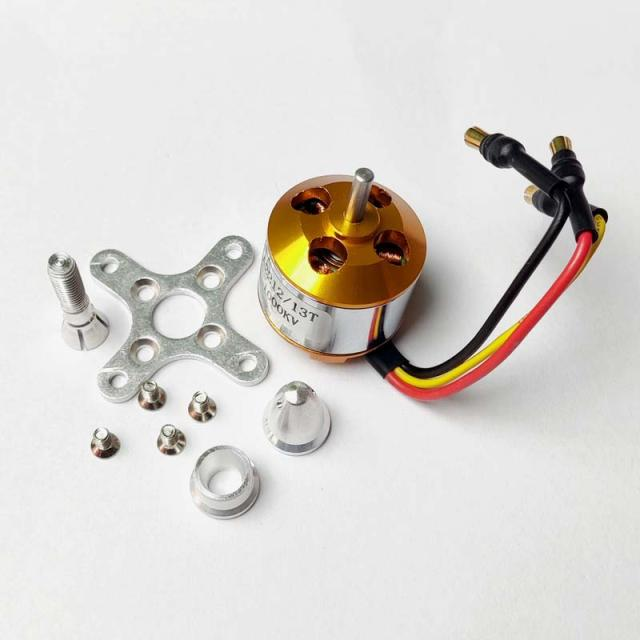motor: (259, 168, 426, 362)
